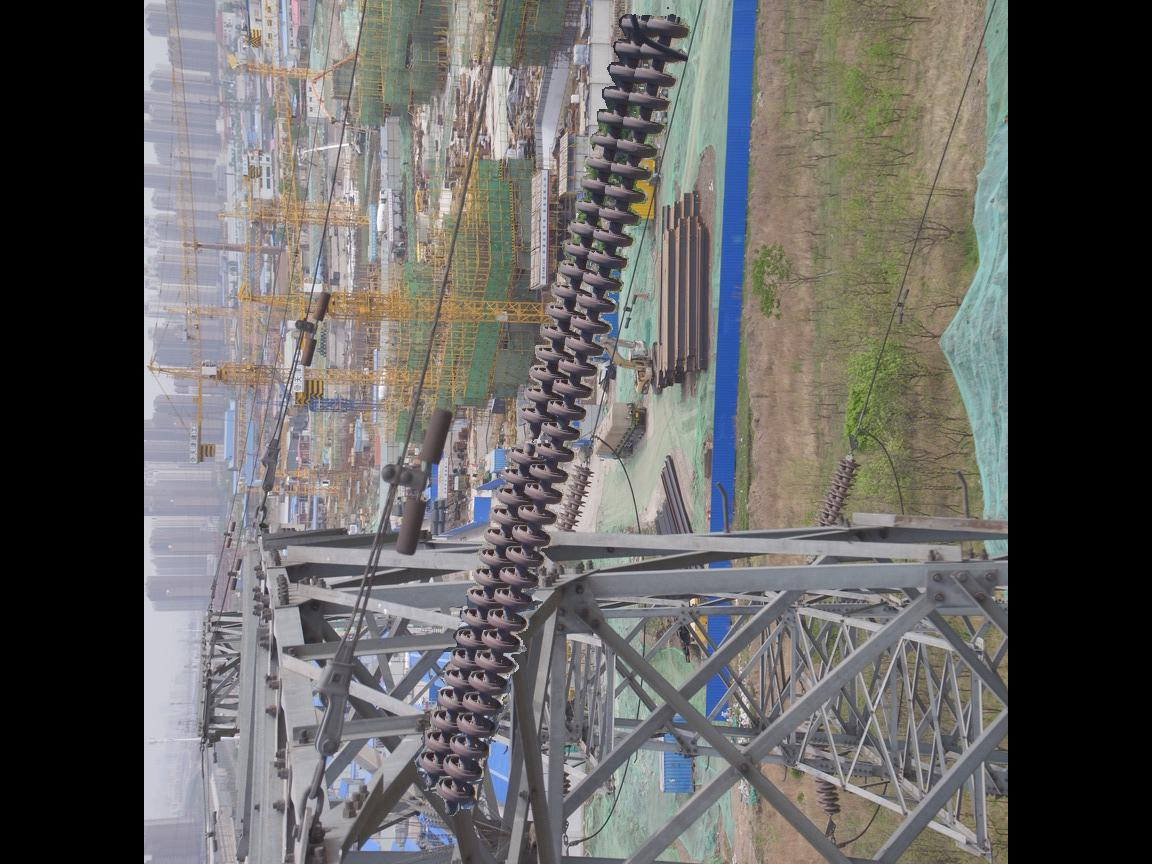insulator: (414, 6, 695, 809), (814, 451, 863, 531), (550, 460, 597, 540)
insulator_stringdrop: (506, 405, 555, 470)
